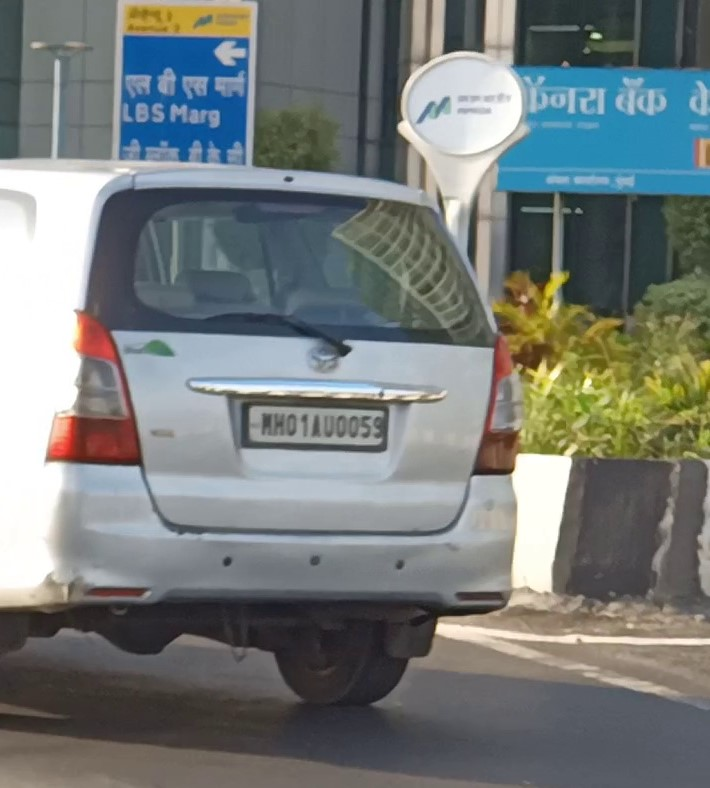MH01AU0059: (247, 406, 389, 448)
